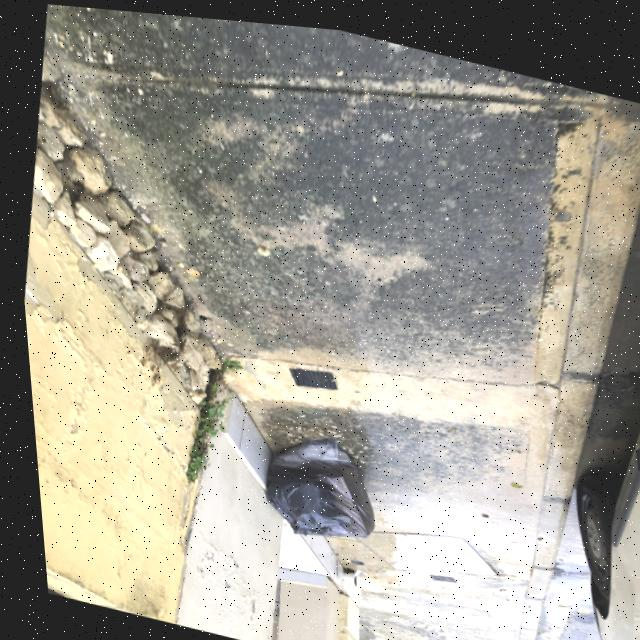Mixed Waste -Black Bag-: (248, 422, 381, 545)
